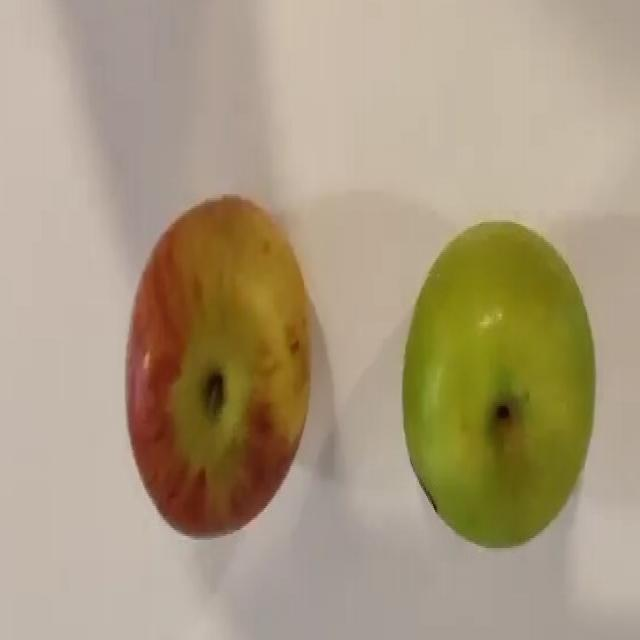Apple: (397, 218, 600, 554), (124, 191, 315, 545)
